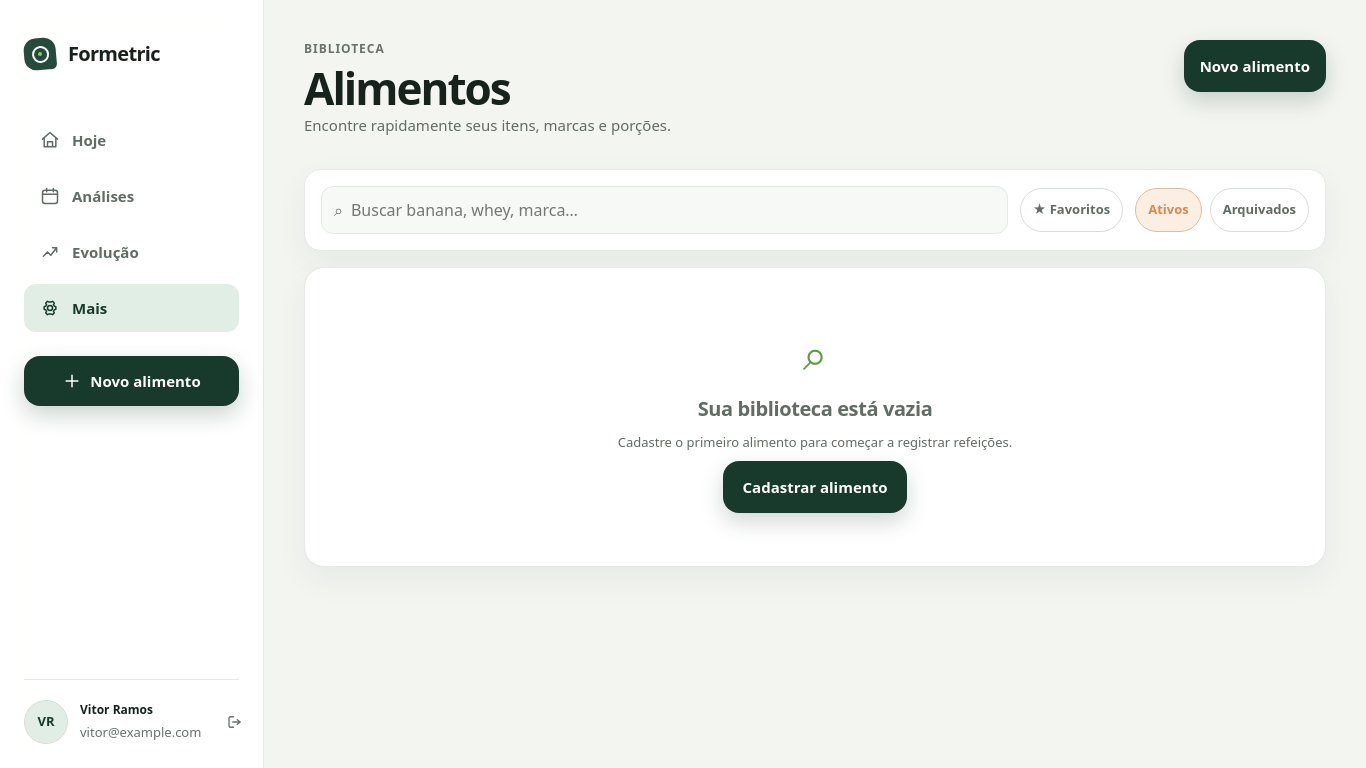
Test: catálogo › pesquisa alimentos com debounce e termo tolerante enviado ao backend
The width and height of the screenshot is (1366, 768).
Expected: the heading "Sua biblioteca está vazia" is shown, [698,394,932,424]
Type "whey bodybuilders" into the search field named "Pesquisar alimentos" at [673, 210], box [351,186,995,232]
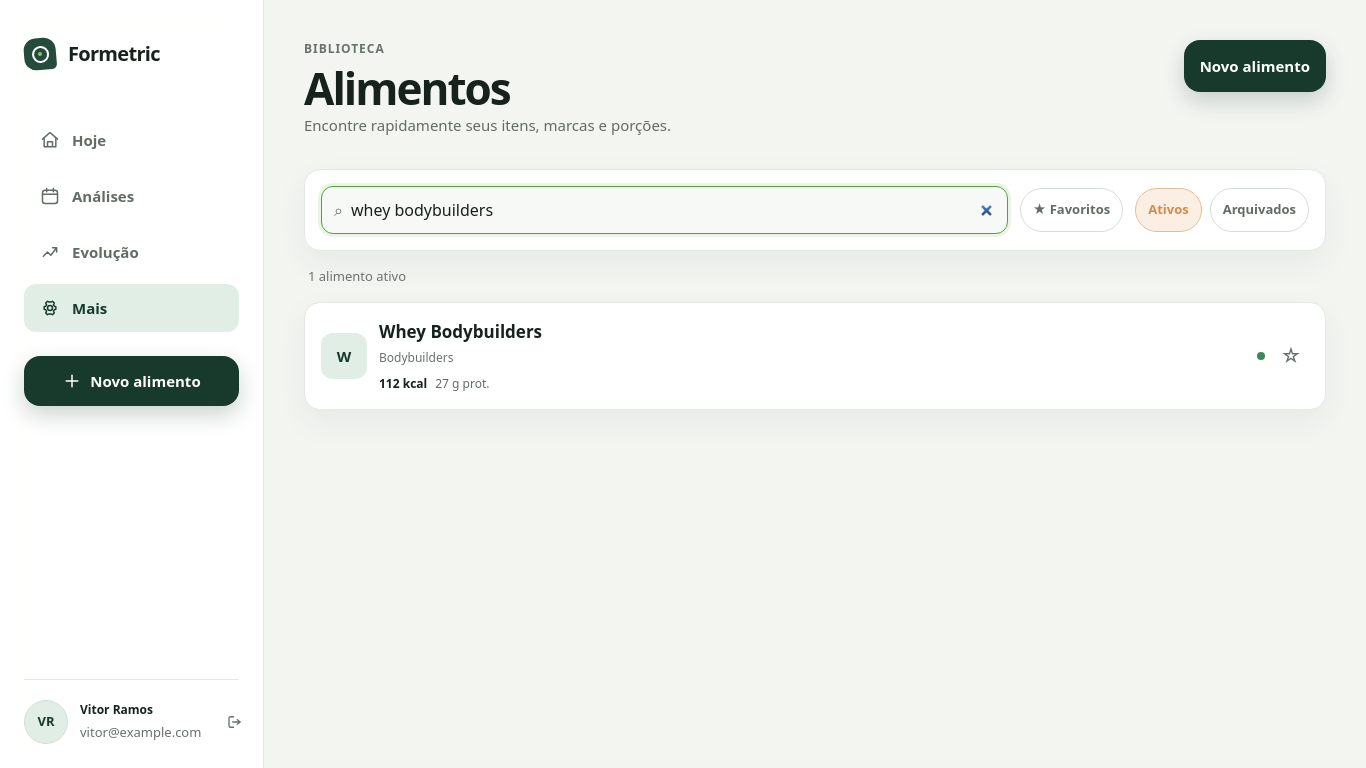
Now the text "Whey Bodybuilders" is shown, box [379,320,542,343]
